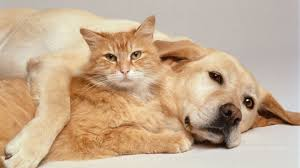cat: (77, 14, 165, 90)
dog: (151, 34, 300, 150)
